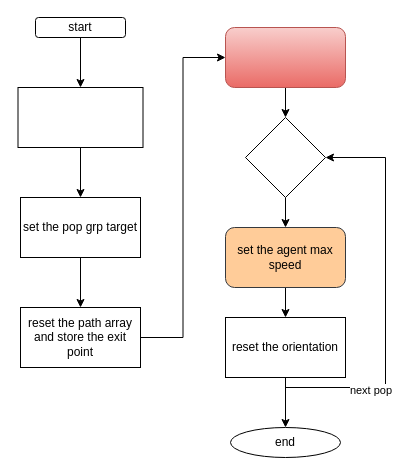
The diagram is 412 pixels wide and 475 high, and some of its shapes have lost their labels. Each missing label, with the centre of its shape:
call finding the path rules for pop reach target point: the point at 285,57
FOR pop grp: the point at 285,157
reset the locked sight and attack rng as empty: the point at 80,117
